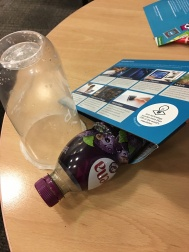bottle_purple: (17, 124, 156, 211)
